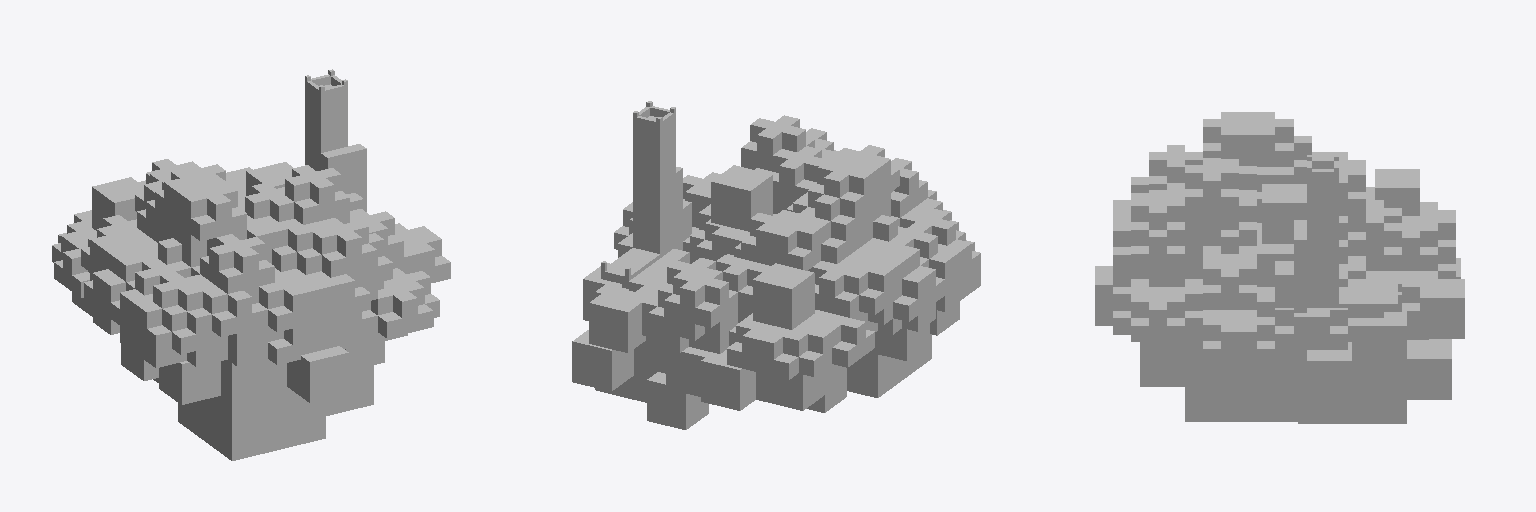
The model's file is Big Asteroid Base 01.obj.
The picture shows the model from 3 angles: view 1: azimuth 30°, elevation 25°; view 2: azimuth 150°, elevation 25°; view 3: azimuth 270°, elevation 25°; orthographic projection.
Parts seen in each view (by area): view 1: Asteroid Base 01; view 2: Asteroid Base 01; view 3: Asteroid Base 01.
Part boxes in pixels (x1,y1,x2,y2): Asteroid Base 01: (52, 69, 450, 460); Asteroid Base 01: (572, 101, 980, 429); Asteroid Base 01: (1095, 112, 1464, 423).
Size of the model in its own units: 80 by 68 by 82.